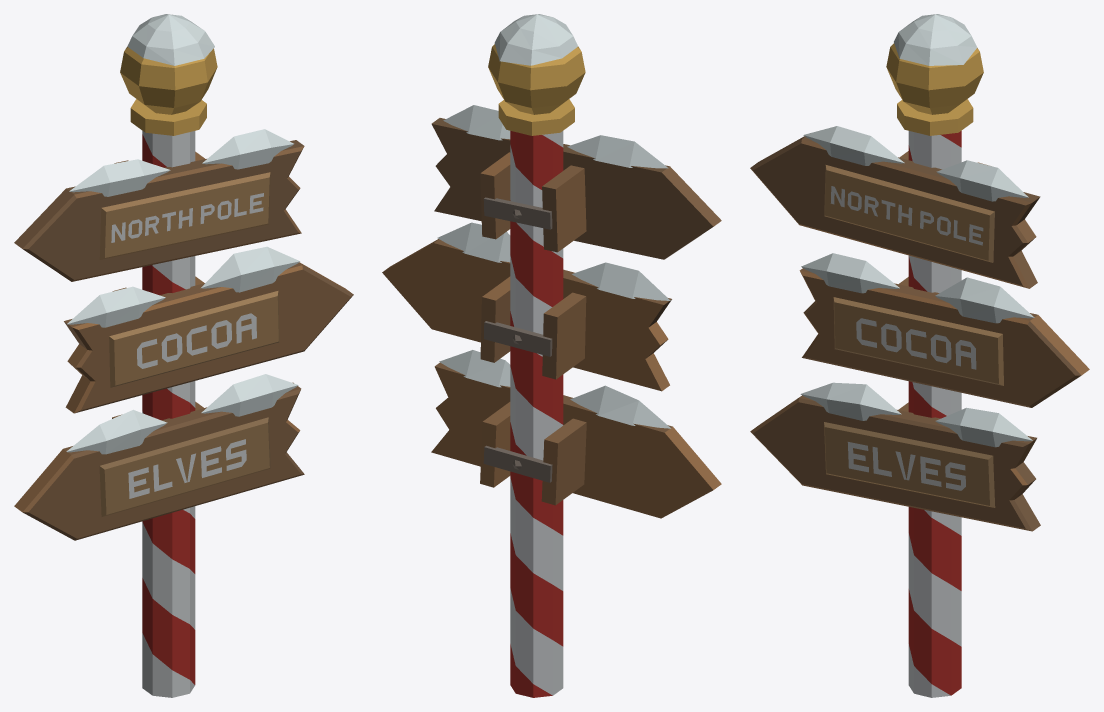
File: north-pole-sign-post-a91f4d.glb
3 renders of one model, left to right at view 1: azimuth 30°, elevation 25°; view 2: azimuth 150°, elevation 25°; view 3: azimuth 330°, elevation 25°, orthographic.
Parts seen in each view (by area): view 1: sign-post; view 2: sign-post; view 3: sign-post.
Part boxes in pixels (x1,y1,x2,y2): sign-post: [14, 14, 353, 697]; sign-post: [382, 14, 721, 697]; sign-post: [750, 14, 1089, 697].
Bounding box in the file's own units: 1.44 × 2.79 × 0.3486.
